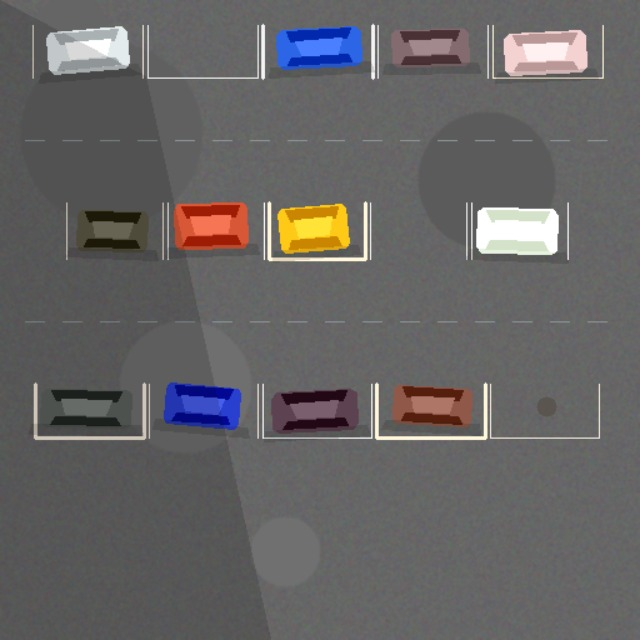space-empty: (490, 384, 599, 438), (147, 25, 257, 77), (370, 203, 466, 259)
space-occupied: (35, 384, 144, 438), (149, 384, 258, 438), (262, 384, 371, 438), (376, 384, 485, 438), (33, 25, 143, 77), (263, 25, 373, 77), (377, 25, 487, 77), (493, 25, 603, 77), (66, 203, 163, 259), (167, 203, 264, 259), (269, 203, 365, 259), (471, 203, 567, 259)
